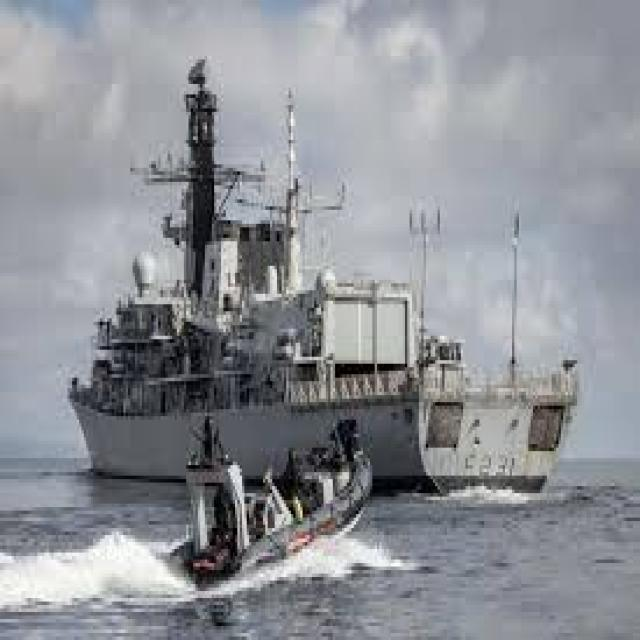houseboat: (142, 410, 389, 596)
navalvessels: (73, 45, 605, 476)
